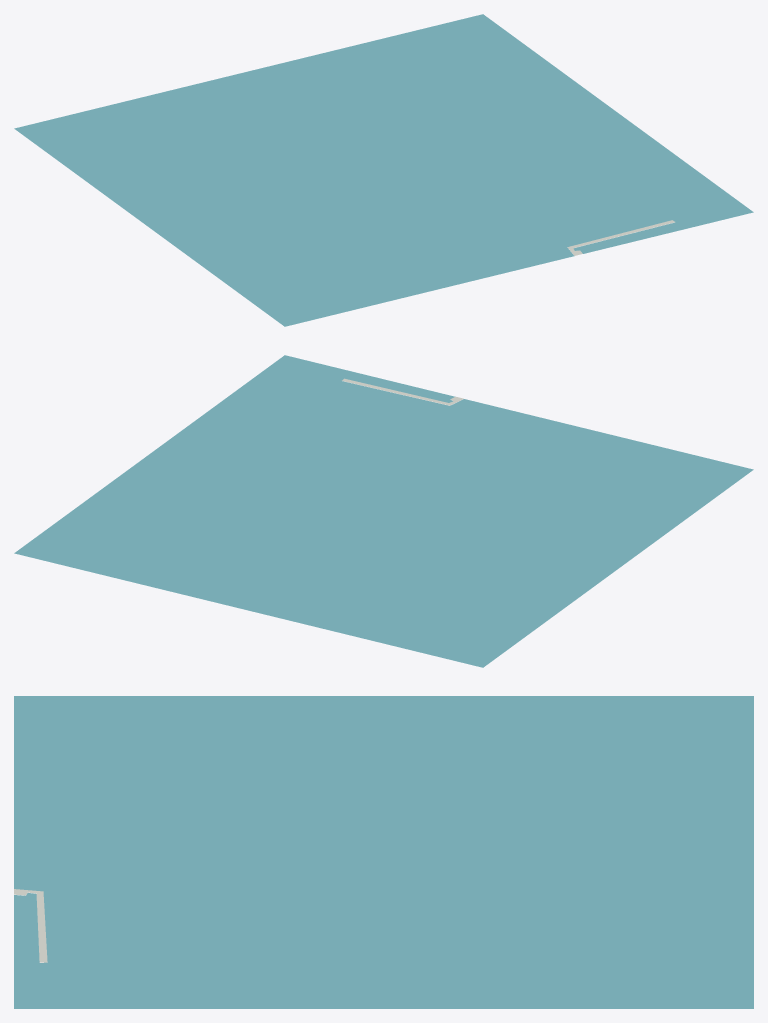
3 views of the same model, one above another, from view 1: azimuth 30°, elevation 25°; view 2: azimuth 150°, elevation 25°; view 3: azimuth 270°, elevation 25° (orthographic). The views are drawn at different scales.
Visible parts, largest first — view 1: city; view 2: city; view 3: city.
Part boxes in pixels (bbox=[...]): city: bbox=[14, 14, 753, 326]; city: bbox=[14, 355, 753, 667]; city: bbox=[14, 696, 753, 1008].
Bounding box in the file's own units: 500 × 0.18 × 500.
